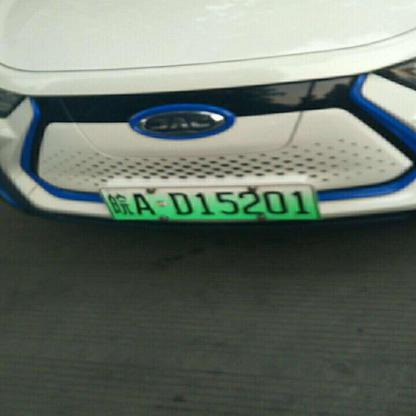lp: (97, 184, 320, 218)
